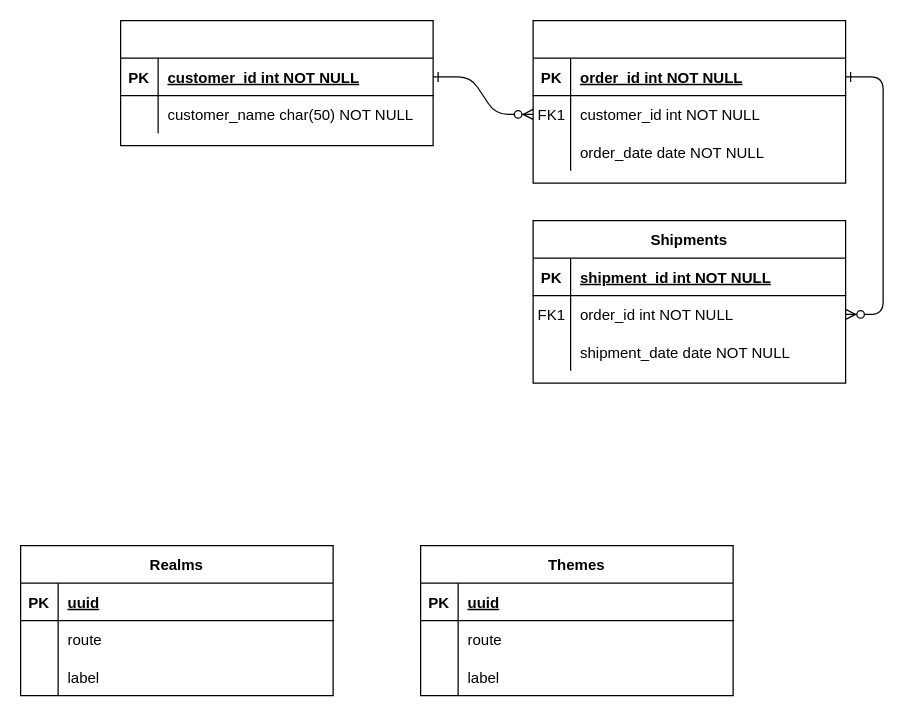
This 904x716 diagram has some shape labels left out. Here are the shapes that lost their labels. From the top down, the box of each, then its label:
(119, 19, 433, 146): Customers
(532, 19, 846, 183): Orders
